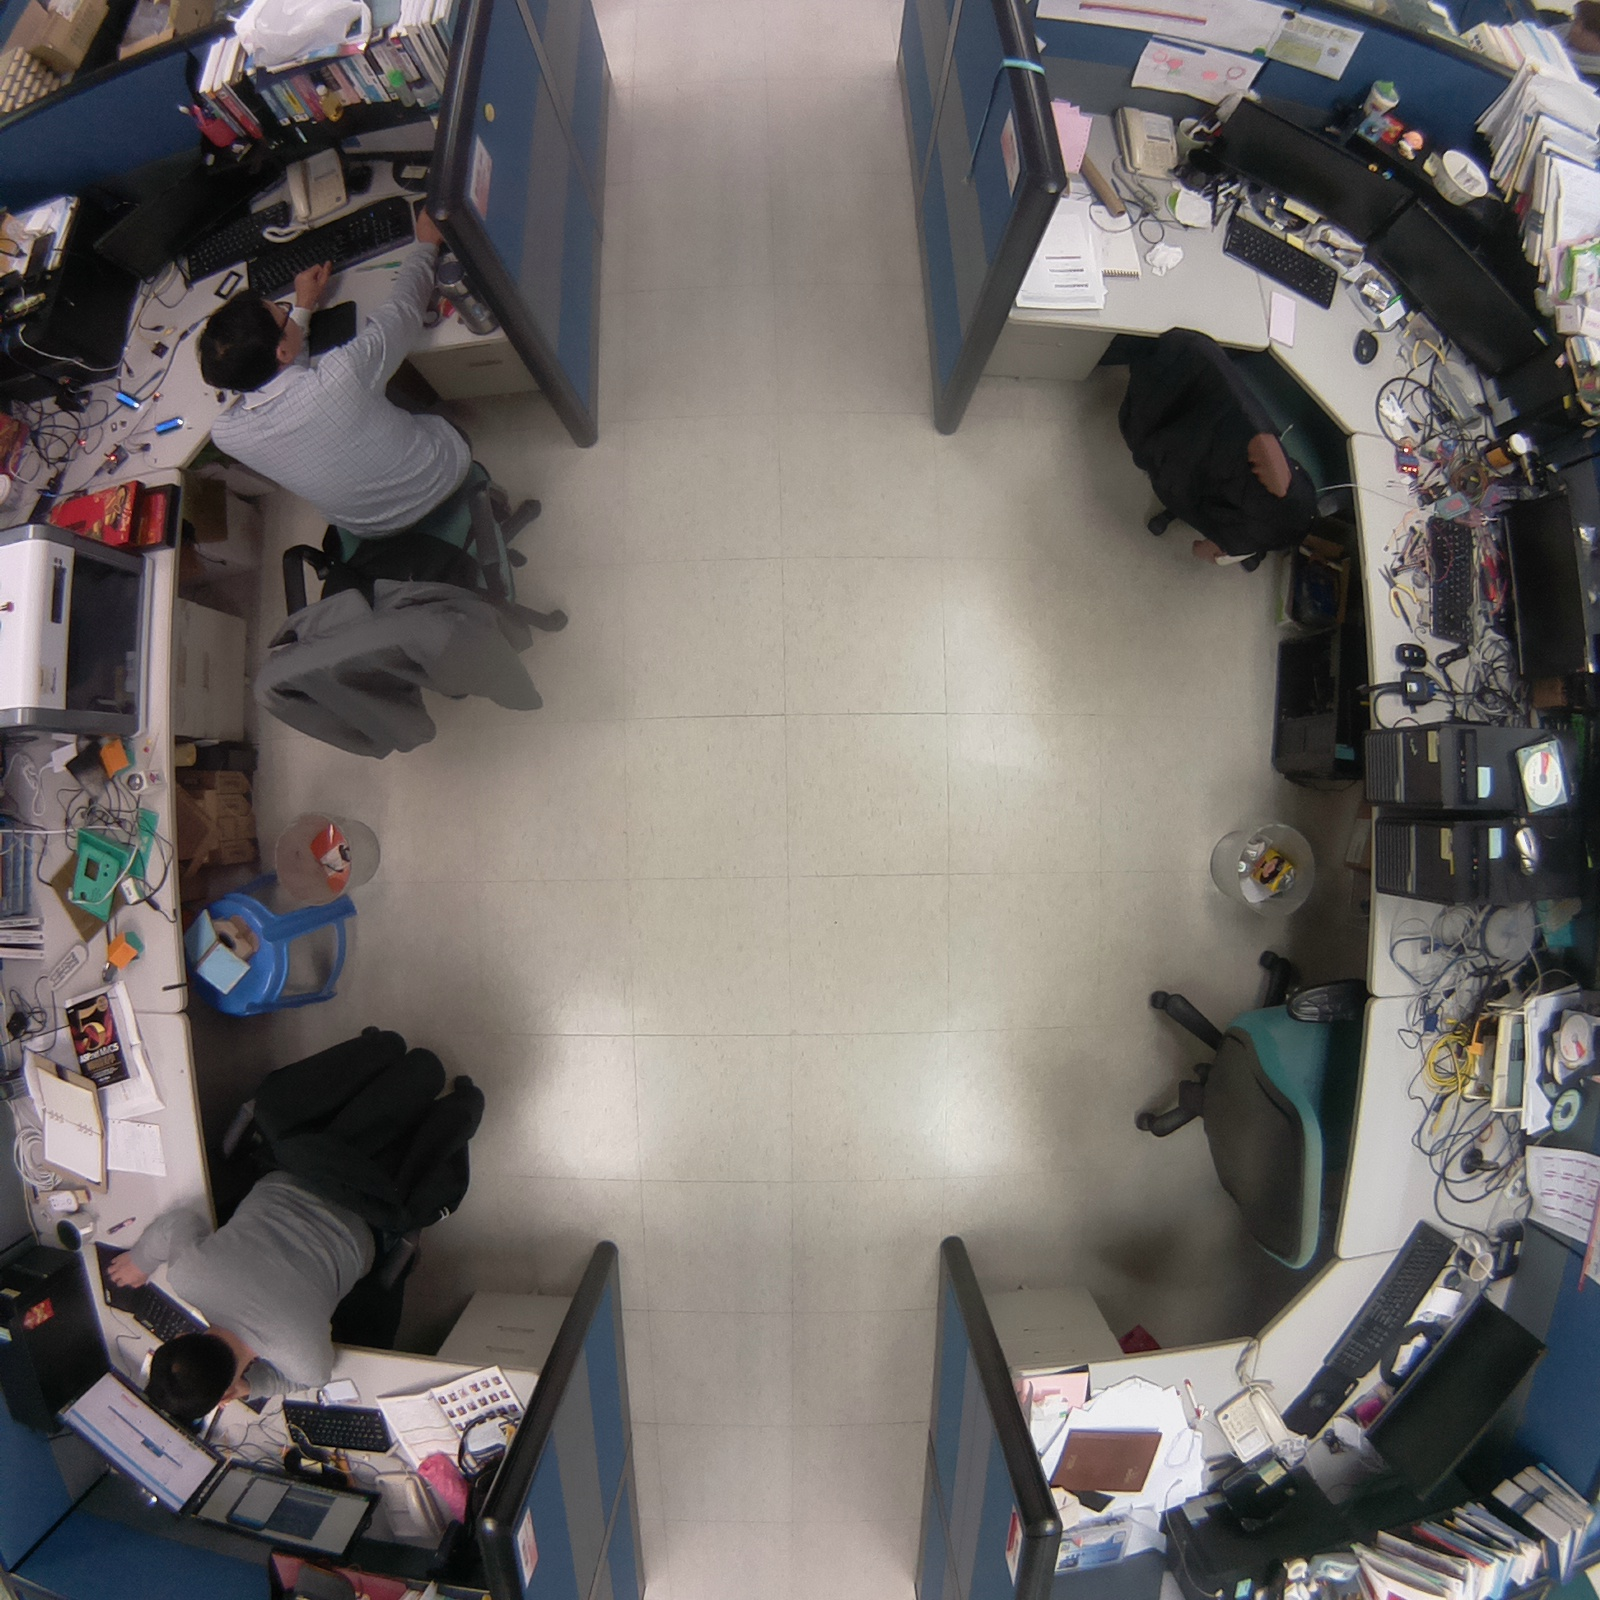chair: (1135, 922, 1368, 1283), (1101, 296, 1368, 599)
head: (185, 280, 308, 402), (142, 1327, 249, 1436)
sitting: (186, 258, 596, 775), (92, 1009, 496, 1424)
